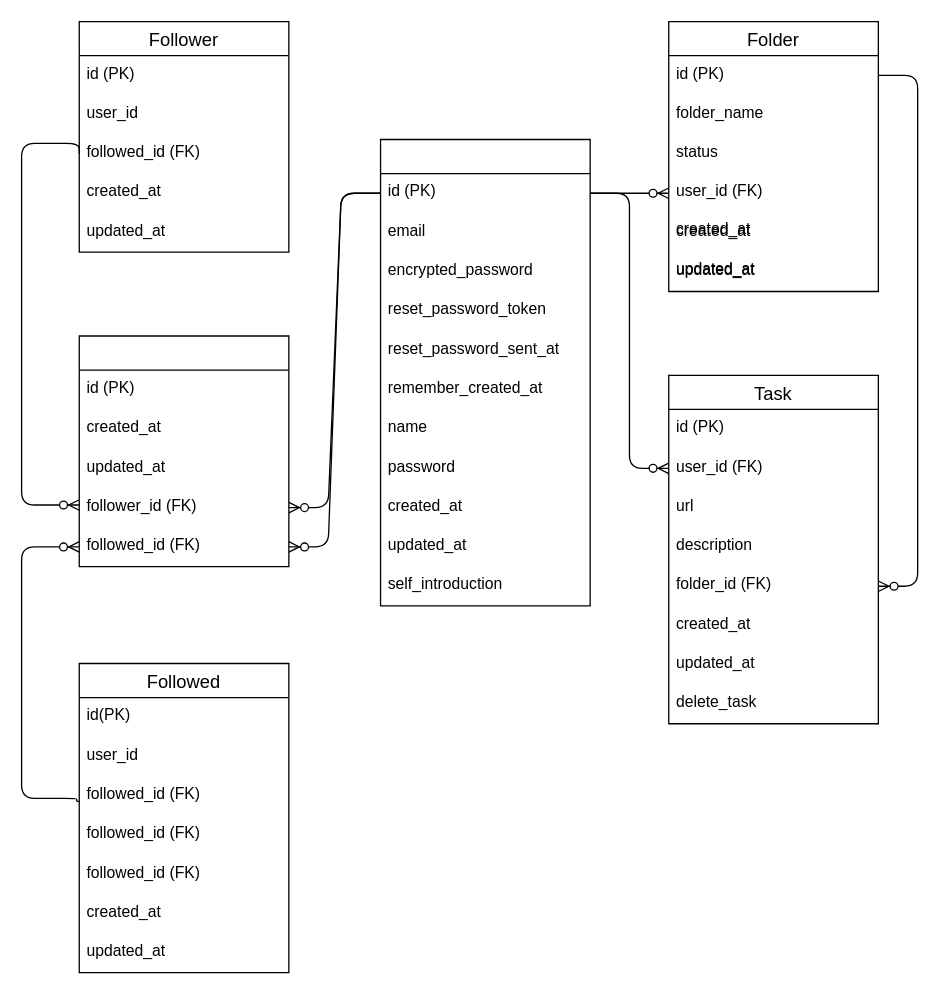
Some shapes in this 939 by 994 pixel diagram are drawn without their labels. The shapes that lost their labels are listed below. From the top down, each one's box as (x1, y1, x2, y2) in pixels, then its label:
(379, 138, 590, 606): User
(78, 335, 289, 567): Relationship
